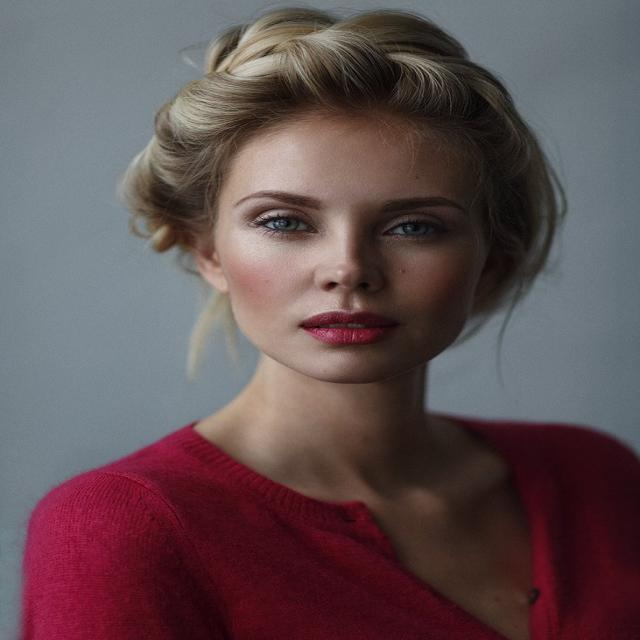earlobe: (206, 260, 232, 293)
eye: (383, 218, 450, 238), (259, 215, 317, 234)
nose: (316, 280, 383, 304)
